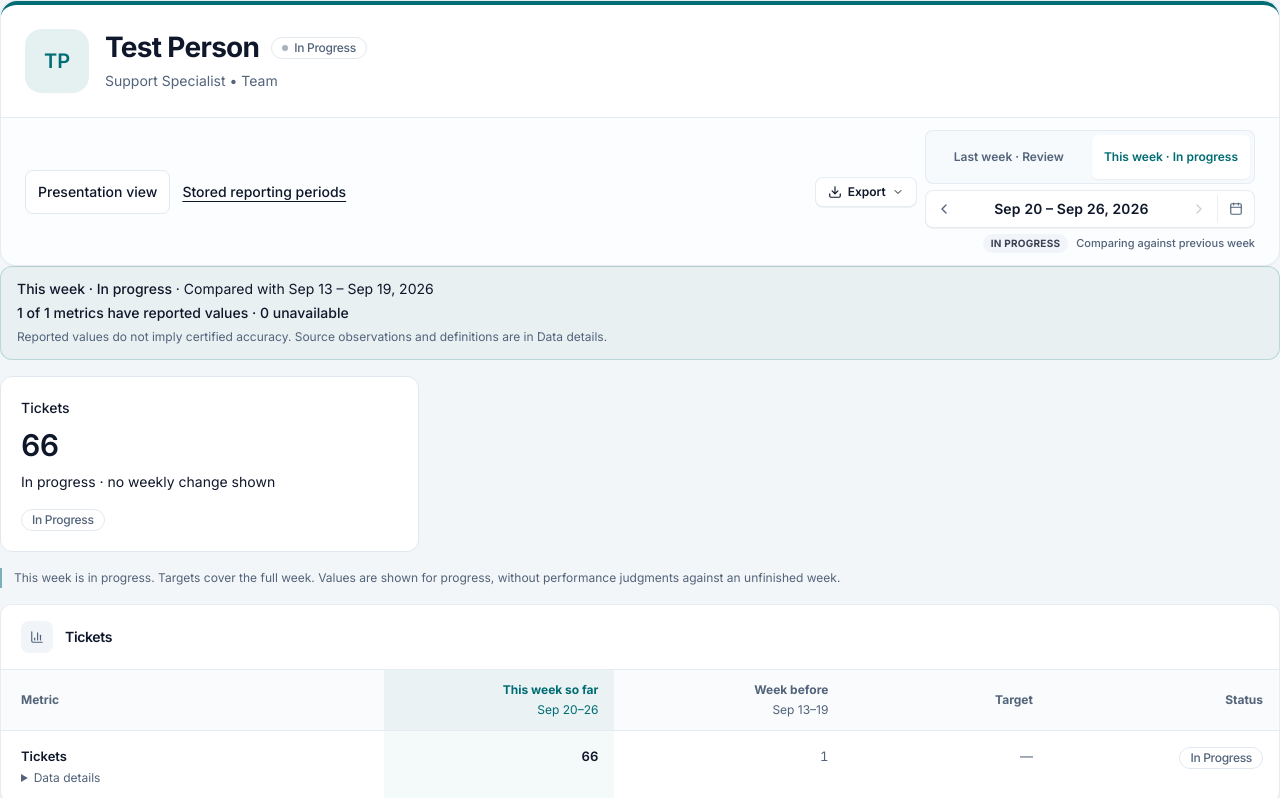
Test: scorecard period snapshot › keeps an empty last week selected instead of substituting another period
Step 1. Click the button "Last week · Review" → click(1009, 157), box 930,135 -> 1088,179
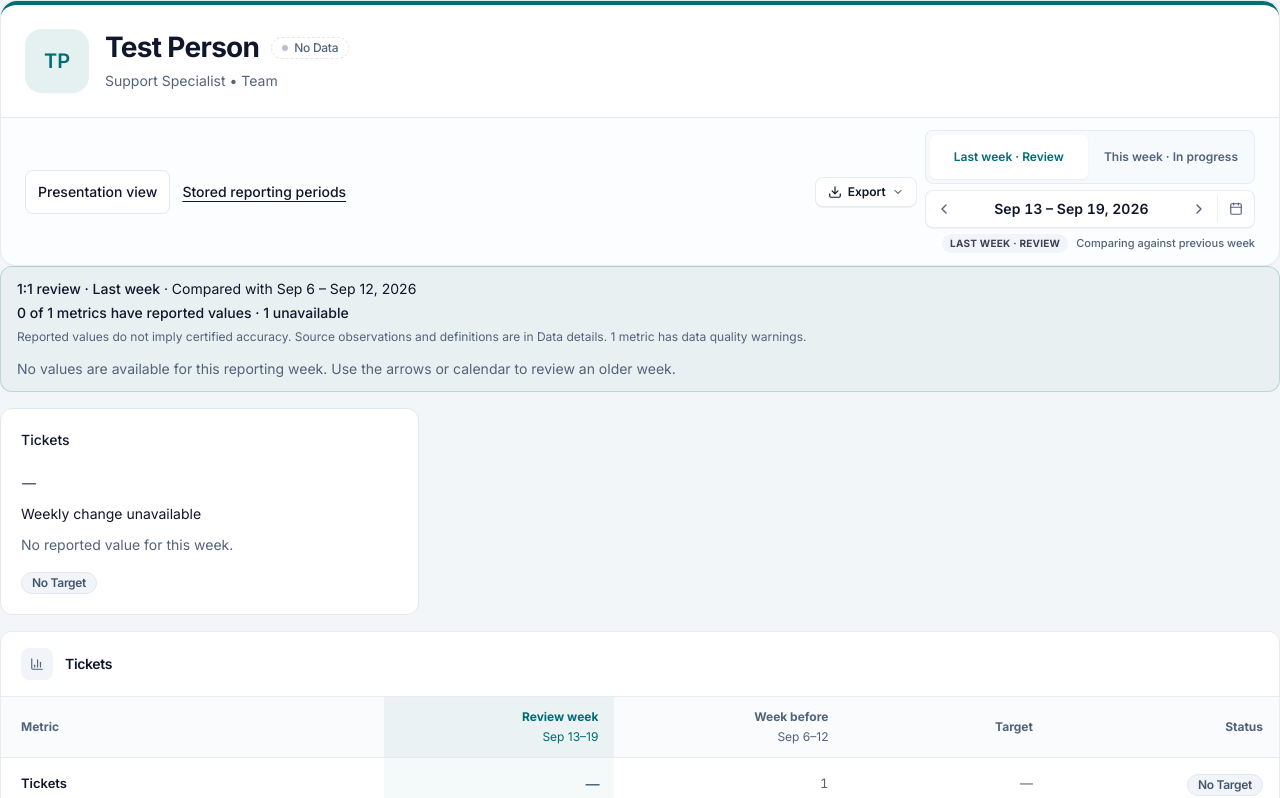
Expected: the text "0 of 1 metrics have reported values" is shown, 17,304 -> 349,321
Expected: the text "No values are available for this reporting week" is shown, 17,360 -> 676,377
